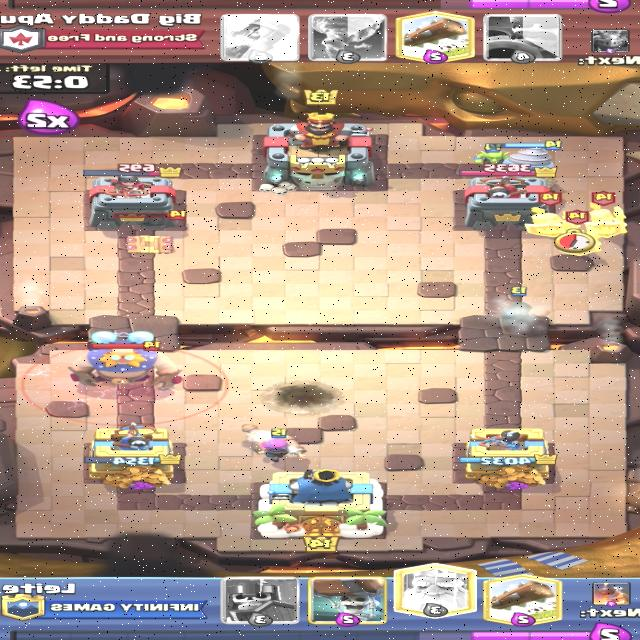Enemy-ElectroGiant: (69, 331, 181, 392)
Enemy-Guard: (525, 190, 580, 238), (556, 208, 601, 258), (584, 191, 628, 239)
Enemy-Tesla-Hidden: (112, 209, 189, 254)
Player-Bandit: (499, 286, 551, 327)
Player-Firecracker: (256, 428, 304, 463)
Player-Goblin: (472, 142, 510, 168)
Player-GoblinDrill: (487, 140, 563, 178)
